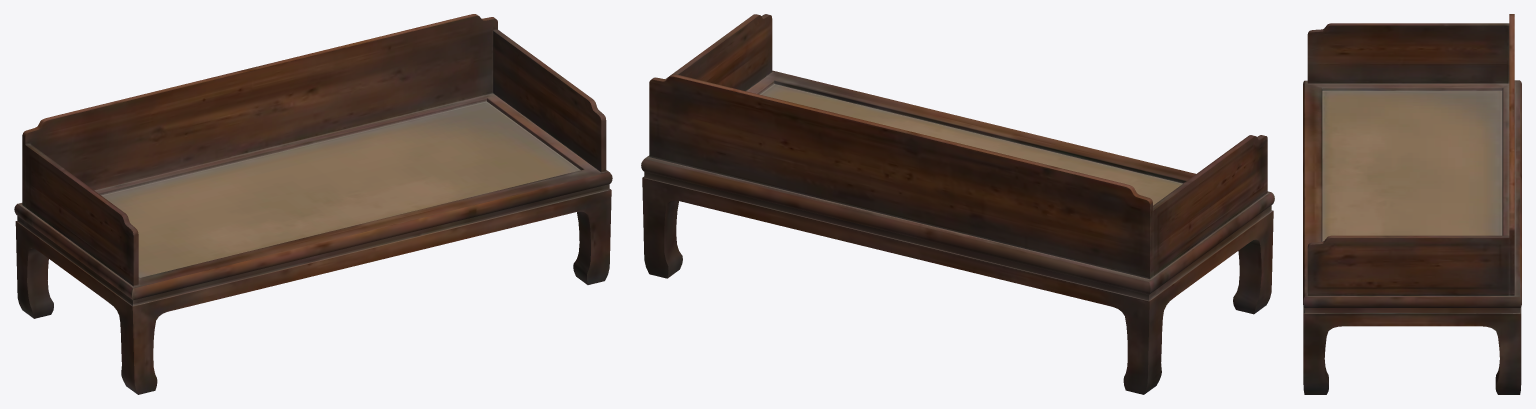
File: chinese-bench.fb09c852ba.glb
3 renders of one model, left to right at view 1: azimuth 30°, elevation 25°; view 2: azimuth 150°, elevation 25°; view 3: azimuth 270°, elevation 25°, orthographic. The views are drawn at different scales.
Visible parts, largest first — view 1: chinese_sofa; view 2: chinese_sofa; view 3: chinese_sofa.
Part boxes in pixels (x1,y1,x2,y2): chinese_sofa: (14,14,612,394); chinese_sofa: (641,14,1274,394); chinese_sofa: (1303,14,1521,394).
Bounding box in the file's own units: 1.94 × 0.7309 × 0.8234.
Materials: 1 (1 with a texture image).
